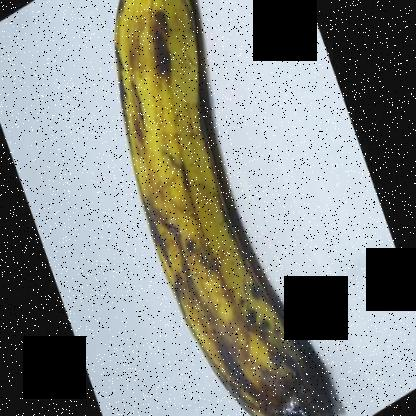overripe: (109, 0, 345, 415)
rotten: (181, 322, 345, 414)
